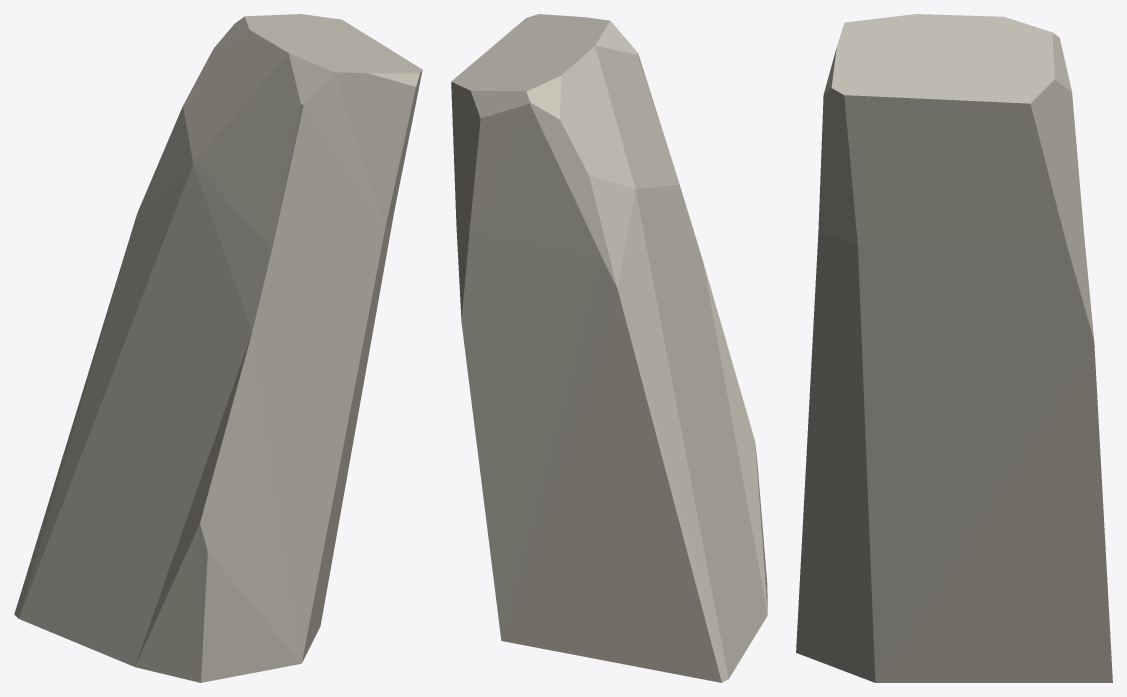
Rendered from Rock_Square_l_08 5.fbx.
3 views of the same model, side by side, from view 1: azimuth 30°, elevation 25°; view 2: azimuth 150°, elevation 25°; view 3: azimuth 270°, elevation 25° (orthographic). The views are drawn at different scales.
Parts seen in each view (by area): view 1: Rock_Square_l_08; view 2: Rock_Square_l_08; view 3: Rock_Square_l_08.
Boxes of the visible parts, x1,y1,x2,y2 form: Rock_Square_l_08: (14,14,422,682); Rock_Square_l_08: (451,14,767,682); Rock_Square_l_08: (796,14,1112,682).
Size of the model in its own units: 220 by 385 by 167.
